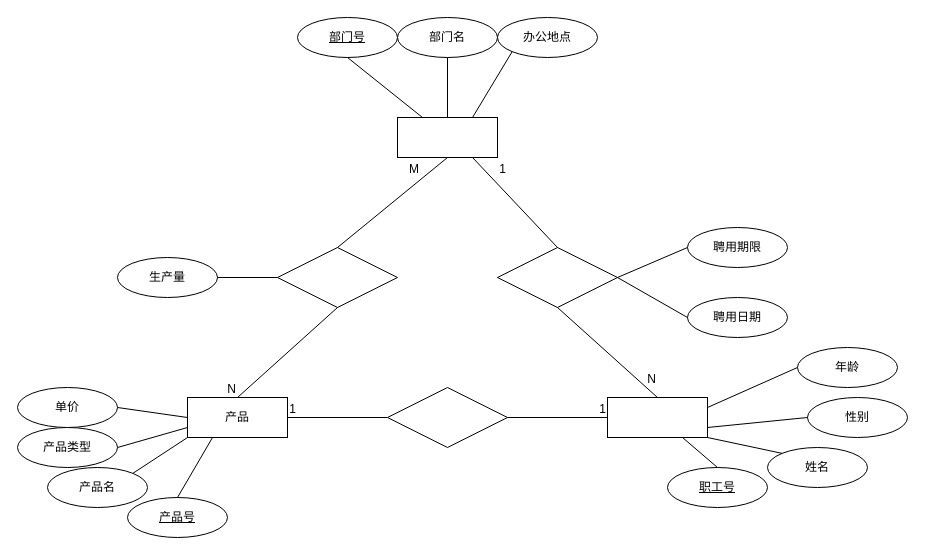
Some shapes in this 925 by 555 pixel diagram are drawn without their labels. The centre of each missing label's shape, as x and y in pixels:
生产: point 337,277
职工: point 657,417
聘用: point 557,277
负责: point 447,417
部门: point 447,137
